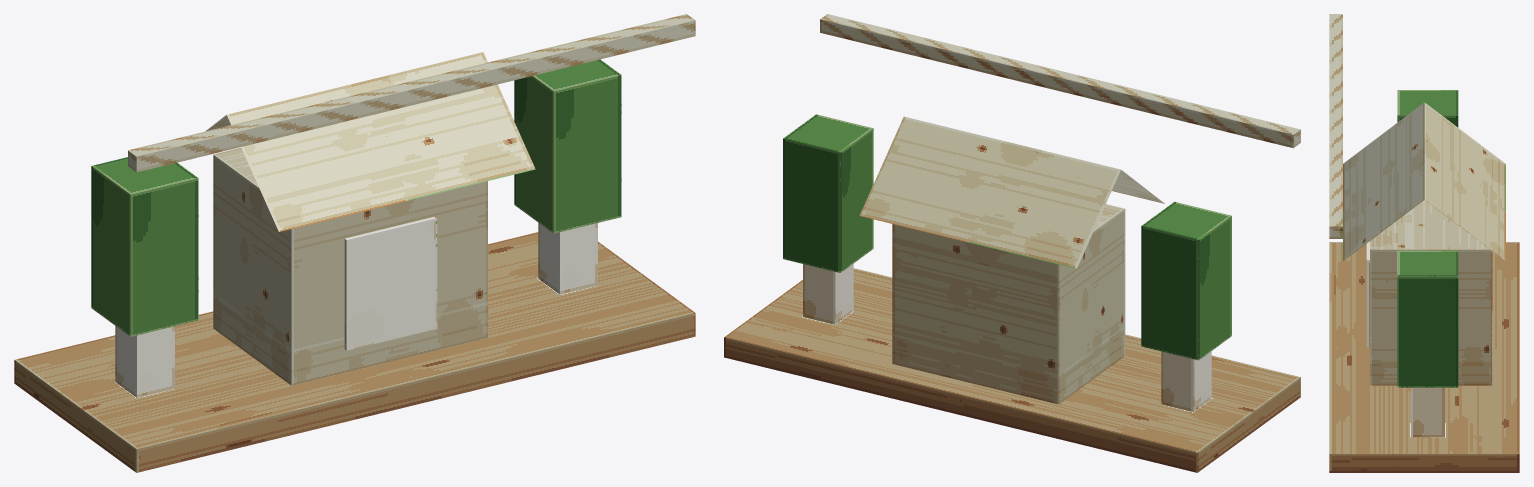
File: kamidana.glb
3 renders of one model, left to right at view 1: azimuth 30°, elevation 25°; view 2: azimuth 150°, elevation 25°; view 3: azimuth 270°, elevation 25°, orthographic. The views are drawn at different scales.
Visible parts, largest first — view 1: mesh; view 2: mesh; view 3: mesh.
Boxes of the visible parts, bbox=[...] form: mesh: bbox=[14, 14, 695, 472]; mesh: bbox=[724, 14, 1300, 472]; mesh: bbox=[1329, 14, 1519, 472].
Bounding box in the file's own units: 0.7493 × 0.405 × 0.2835.
Materials: 1 (1 with a texture image).
